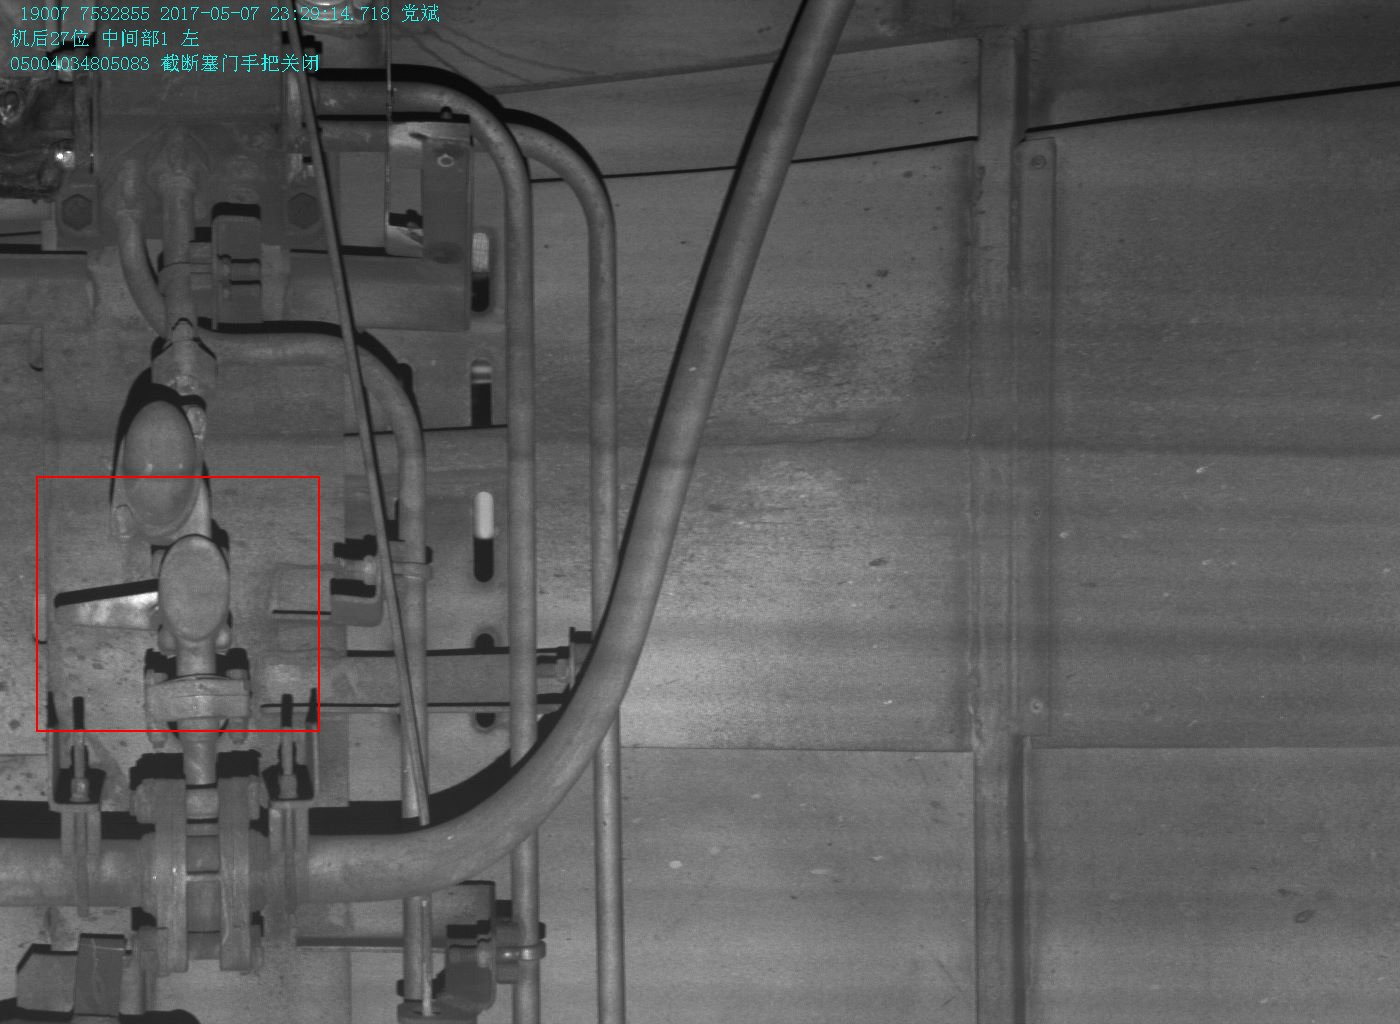truncated plug door handle: (52, 533, 245, 653)
